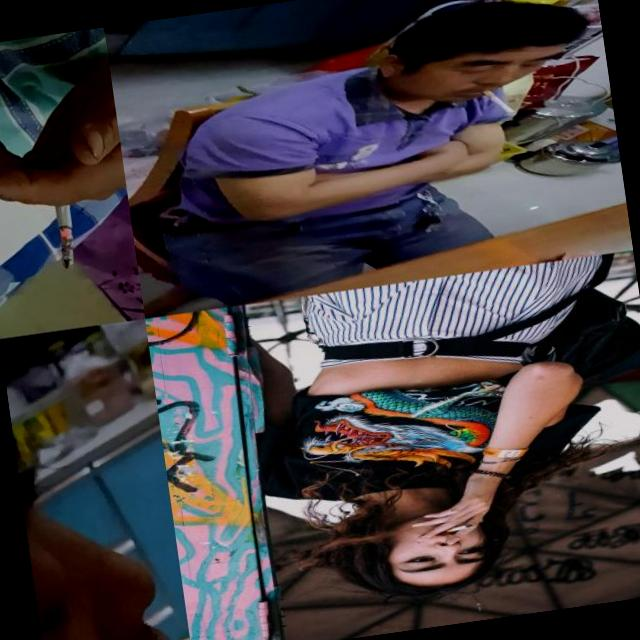cigarette: (52, 191, 80, 270), (483, 86, 515, 115), (440, 524, 476, 538)
